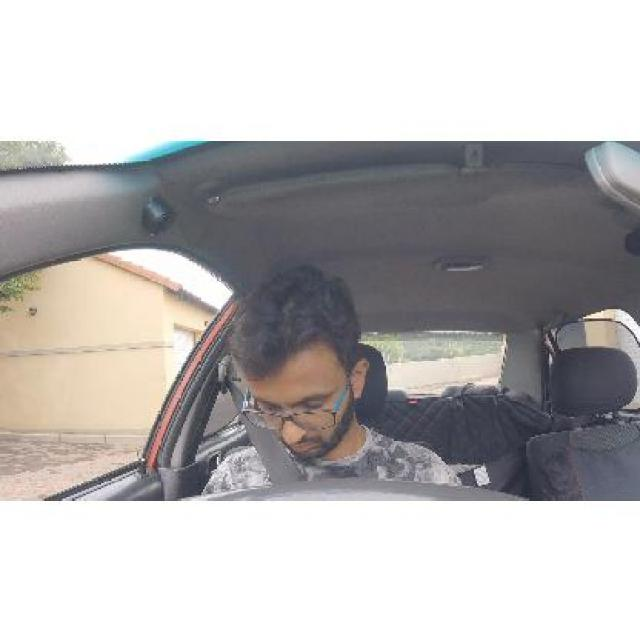drowsy: (231, 267, 365, 456)
